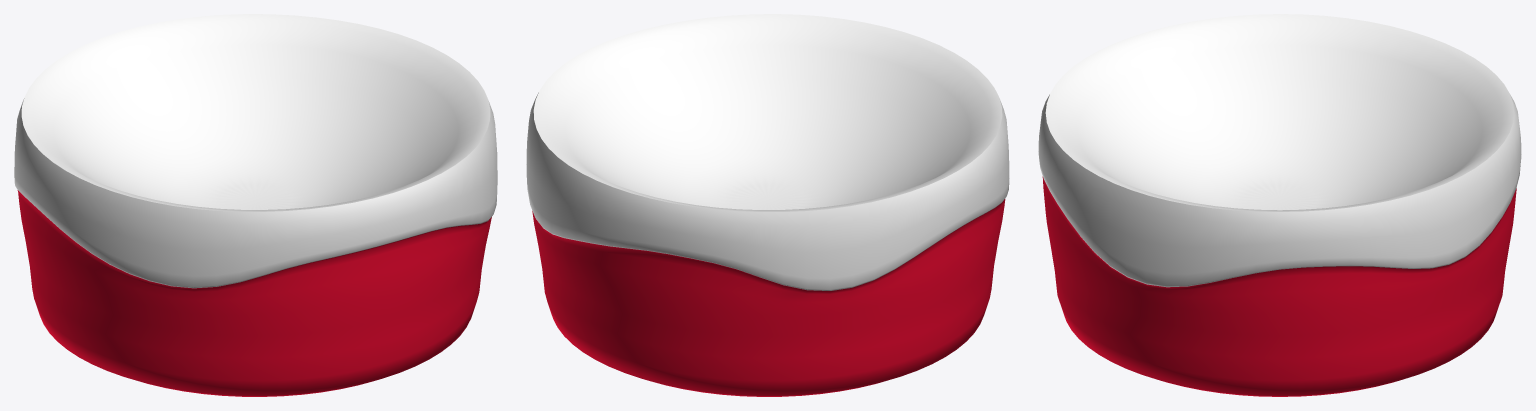
File: bottom2.glb
3 views of the same model, side by side, from view 1: azimuth 30°, elevation 25°; view 2: azimuth 150°, elevation 25°; view 3: azimuth 270°, elevation 25° (orthographic).
Parts seen in each view (by area): view 1: Cylinder; view 2: Cylinder; view 3: Cylinder.
Boxes of the visible parts, x1,y1,x2,y2 form: Cylinder: (14, 14, 497, 396); Cylinder: (526, 14, 1009, 396); Cylinder: (1038, 14, 1521, 396).
Bounding box in the file's own units: 10.63 × 4.83 × 10.63.
Materials: 1 (1 with a texture image).
